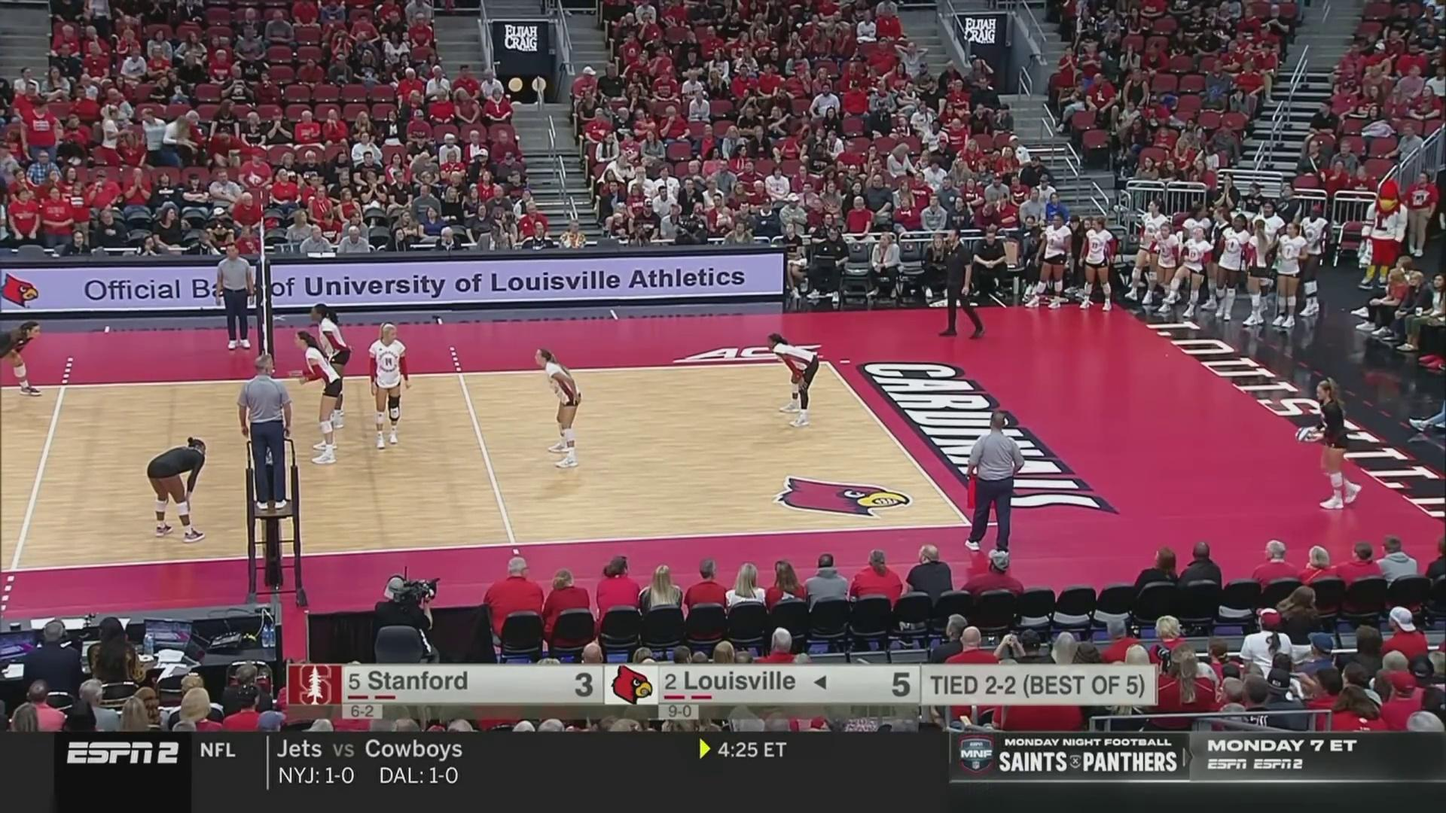player: (1306, 377, 1361, 510), (291, 331, 342, 467), (146, 436, 207, 541), (307, 303, 352, 429), (532, 348, 580, 466), (367, 327, 411, 448), (764, 335, 819, 426), (0, 322, 43, 396)
refree: (238, 353, 294, 511), (964, 412, 1024, 559), (218, 244, 255, 348)
